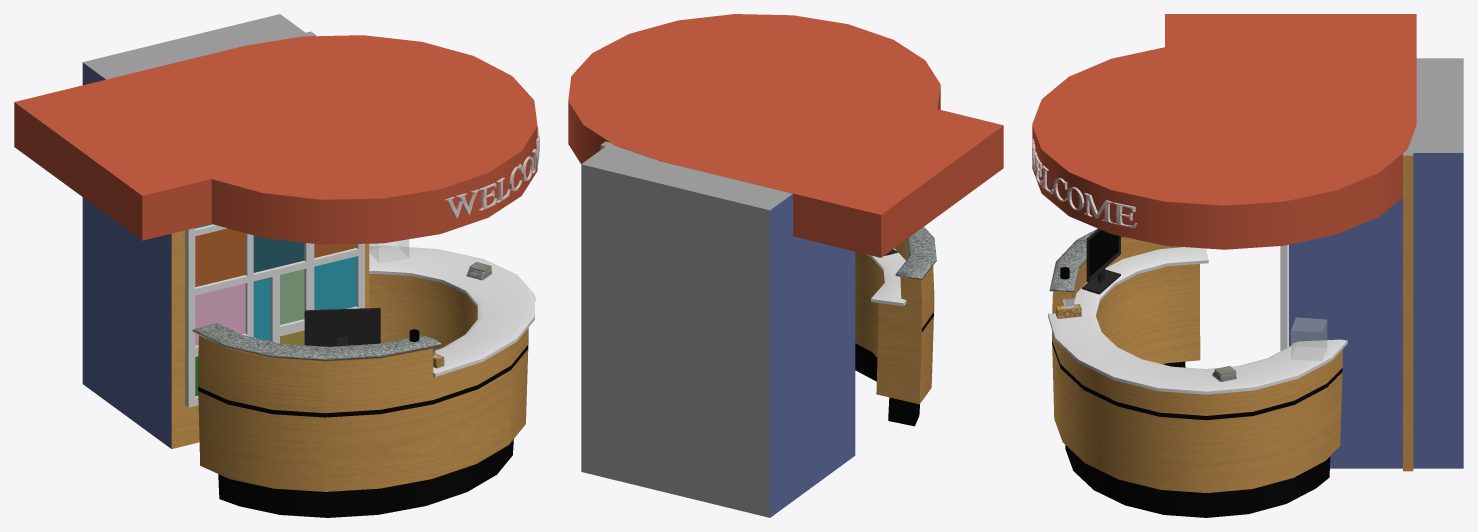
The model's file is welcome_desk.fbx.
3 renders of one model, left to right at view 1: azimuth 30°, elevation 25°; view 2: azimuth 150°, elevation 25°; view 3: azimuth 270°, elevation 25°, orthographic. The views are drawn at different scales.
Parts seen in each view (by area): view 1: overhead_circle, desk, wall, frames, monitor, Trim_Text_WELCOME_1_2, pCube2; view 2: wall, overhead_circle, desk; view 3: overhead_circle, desk, wall, Trim_Text_WELCOME_1_2, pCube2, monitor, frames, monitor_stand.
Boxes of the visible parts, x1,y1,x2,y2 form: overhead_circle: (14,35,537,244); desk: (192,245,535,517); wall: (82,14,369,448); frames: (185,224,364,407); monitor: (304,307,380,346); Trim_Text_WELCOME_1_2: (445,127,539,218); pCube2: (369,239,408,262); wall: (581,141,855,517); overhead_circle: (568,14,1003,257); desk: (855,227,936,426); overhead_circle: (1032,14,1416,249); desk: (1048,228,1347,517); wall: (1288,58,1463,471); Trim_Text_WELCOME_1_2: (1032,138,1137,228); pCube2: (1291,317,1326,360); monitor: (1086,228,1120,282); frames: (1280,245,1287,350); monitor_stand: (1082,268,1120,294).
Size of the model in its own units: 2.36 by 1.86 by 2.24.
24 materials, 5 textured.
